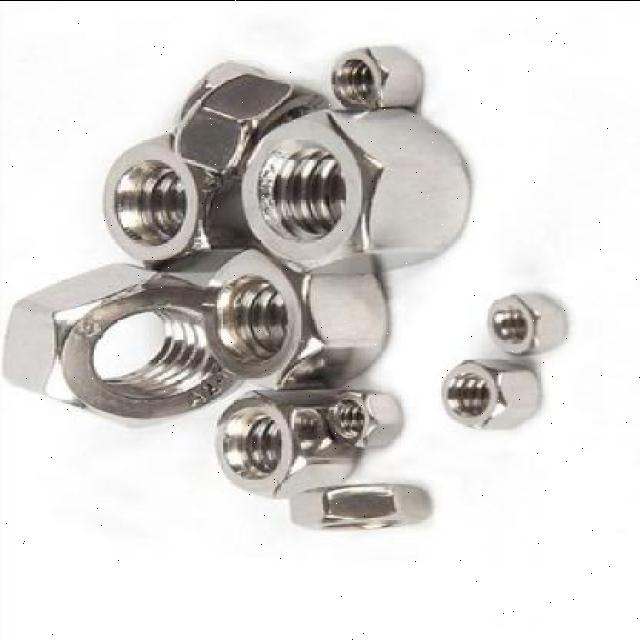Nut: (2, 261, 245, 432), (240, 105, 472, 276), (202, 246, 391, 392), (100, 128, 266, 272), (172, 68, 334, 180), (212, 386, 360, 500), (438, 358, 542, 432), (287, 480, 434, 532), (331, 43, 425, 111), (486, 289, 568, 356), (328, 386, 404, 448)
